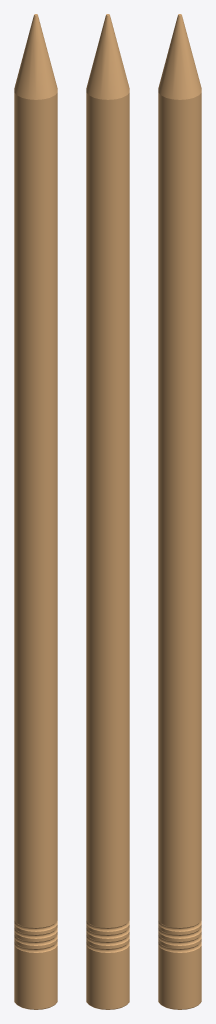
The model's file is pencil.glb.
3 renders of one model, left to right at view 1: azimuth 30°, elevation 25°; view 2: azimuth 150°, elevation 25°; view 3: azimuth 330°, elevation 25°, orthographic.
Visible parts, largest first — view 1: pencil; view 2: pencil; view 3: pencil.
Part boxes in pixels (x1,y1,x2,y2): pencil: [14, 14, 57, 1009]; pencil: [86, 14, 129, 1009]; pencil: [158, 14, 201, 1009].
Size of the model in its own units: 0.00711 by 0.175 by 0.00701.
